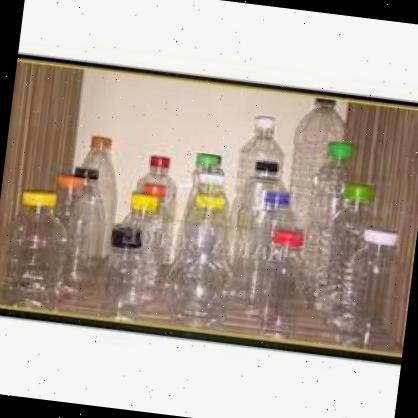bottle: (312, 183, 378, 342), (231, 184, 299, 326), (0, 173, 63, 323), (168, 172, 232, 316), (116, 148, 173, 288), (34, 175, 84, 302), (66, 167, 106, 280)
cap: (328, 178, 383, 212), (14, 182, 59, 215), (359, 224, 400, 252), (270, 225, 305, 250), (251, 110, 278, 136), (86, 131, 114, 156), (328, 138, 356, 160), (194, 150, 222, 170), (252, 156, 282, 174)
